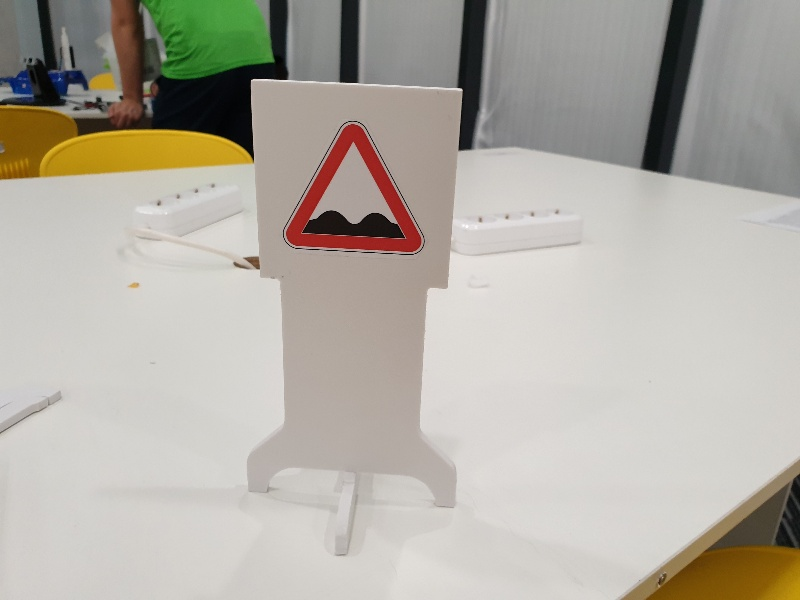Nerov: (272, 117, 435, 267)
